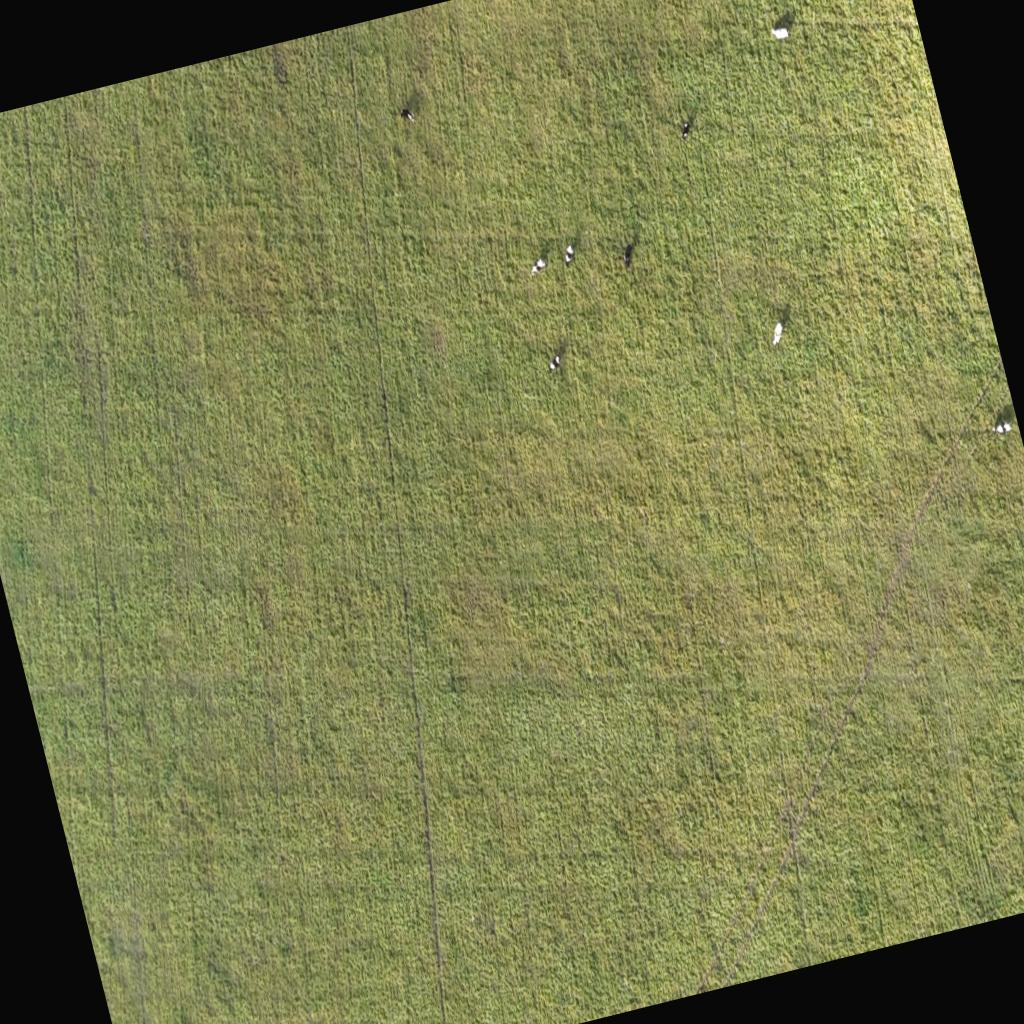cow: (619, 239, 642, 267), (540, 350, 564, 376), (768, 20, 792, 44), (526, 254, 548, 276), (768, 320, 786, 346), (992, 418, 1012, 436), (560, 244, 576, 266), (678, 119, 694, 141), (398, 106, 416, 124)
